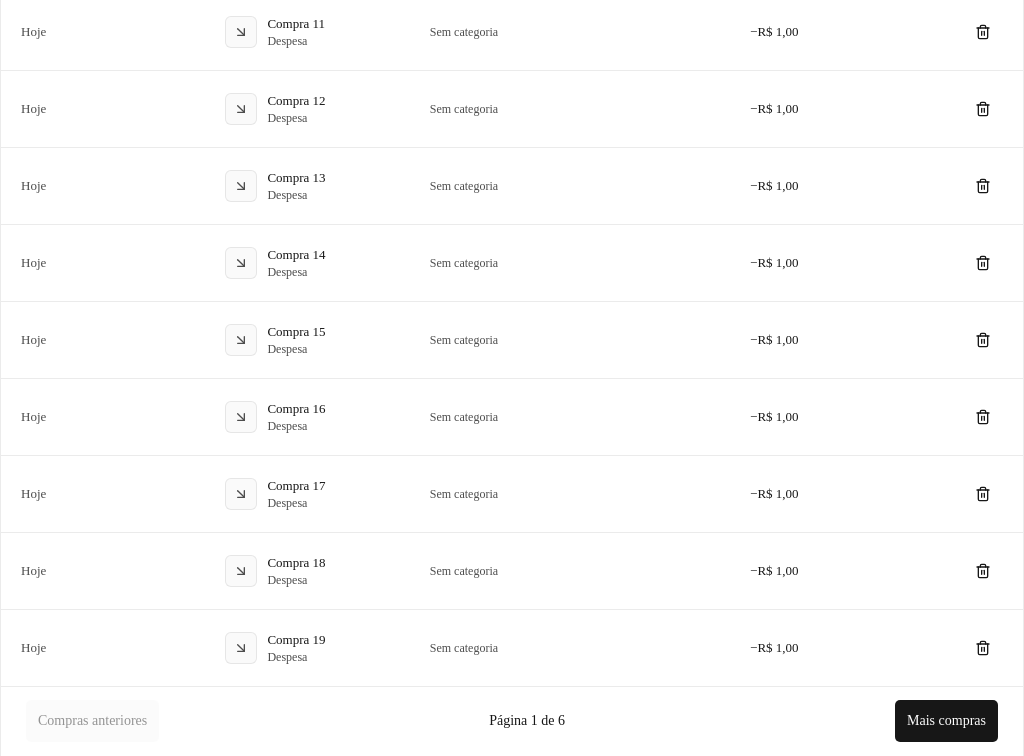
Test: total completo permanece correto ao navegar mais de 100 compras
The image size is (1024, 756).
(page scrolled)
Click the button "Mais compras" at (946, 721), box [894, 699, 999, 743]
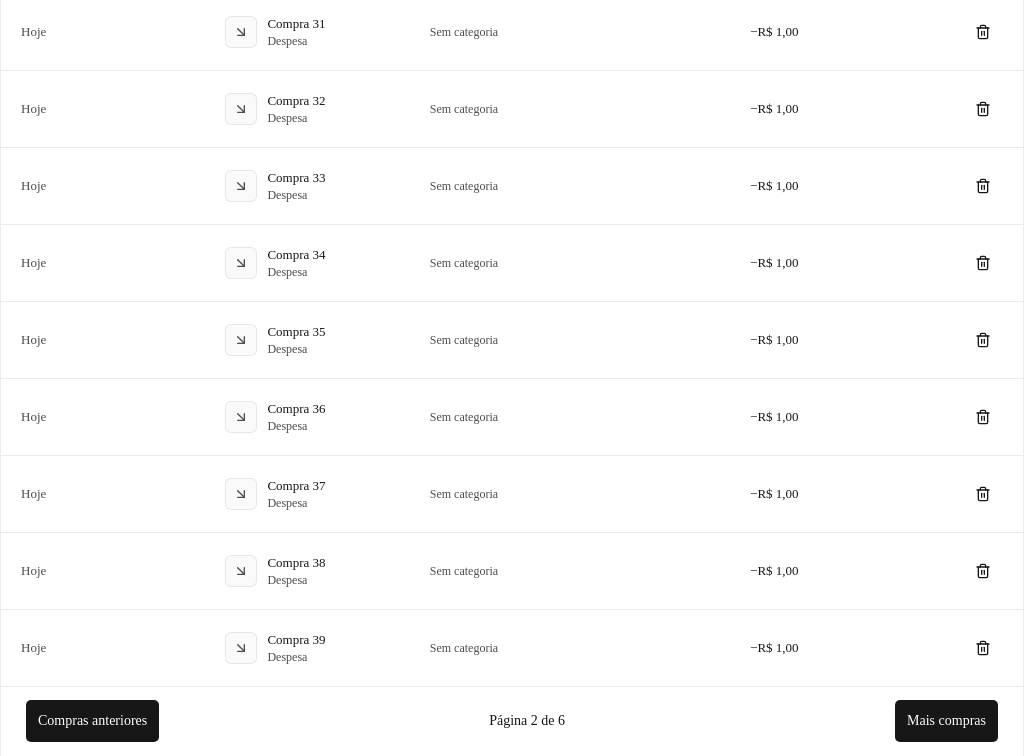
Click the button "Mais compras" at (946, 721), box [894, 699, 999, 743]
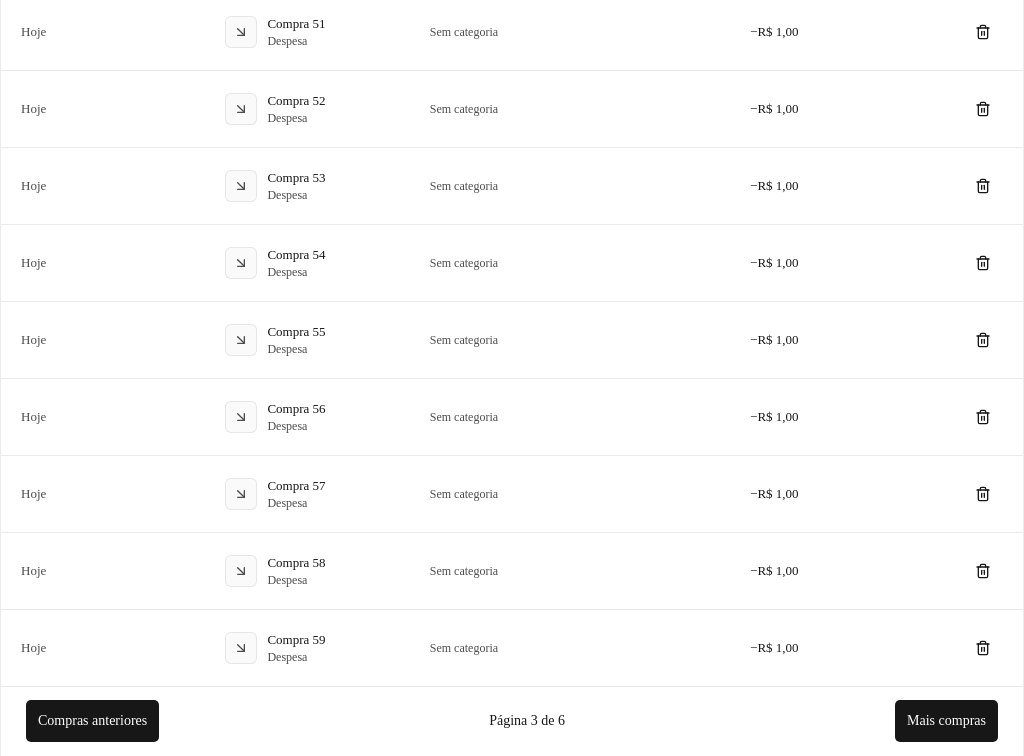
Click the button "Mais compras" at (946, 721), box [894, 699, 999, 743]
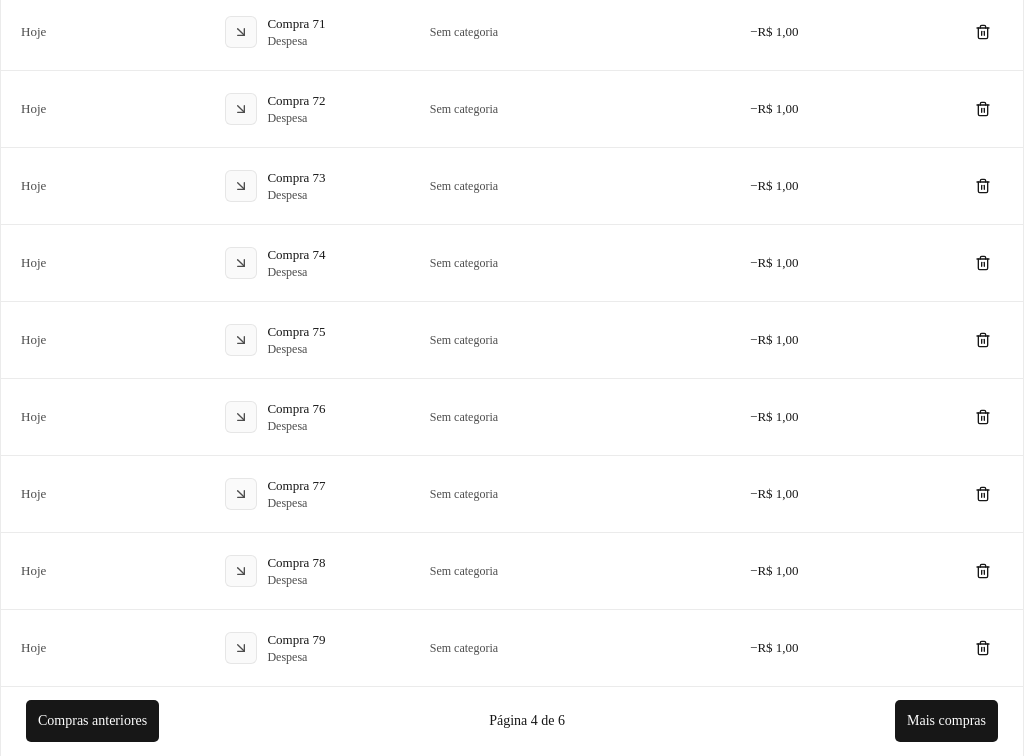
Click the button "Mais compras" at (946, 721), box [894, 699, 999, 743]
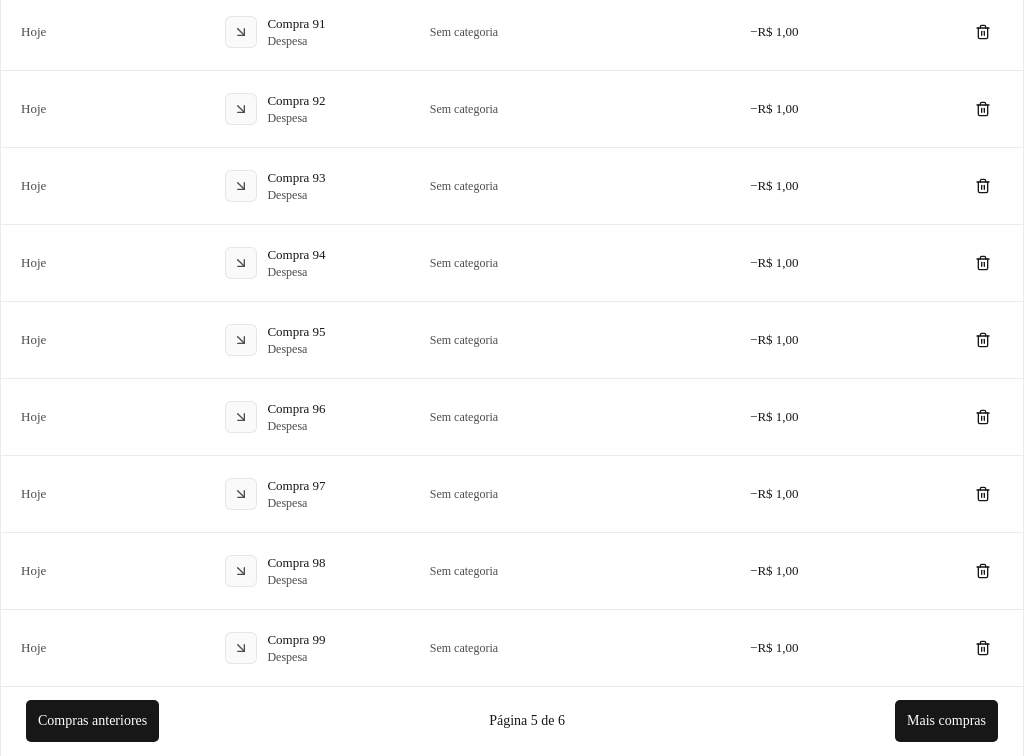
Click the button "Mais compras" at (946, 721), box [894, 699, 999, 743]
(page scrolled)
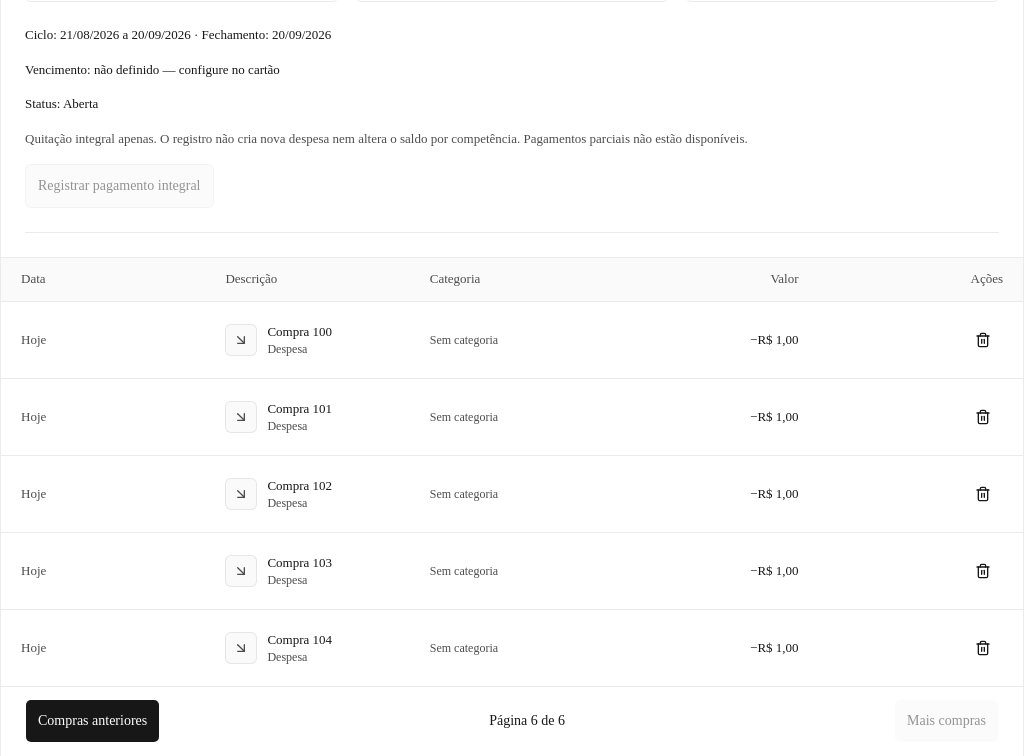
Check: the text "Compra 104" is shown, box [267, 632, 332, 646]
Click the button "Compras anteriores" at (93, 721), box [25, 699, 160, 743]
(page scrolled)
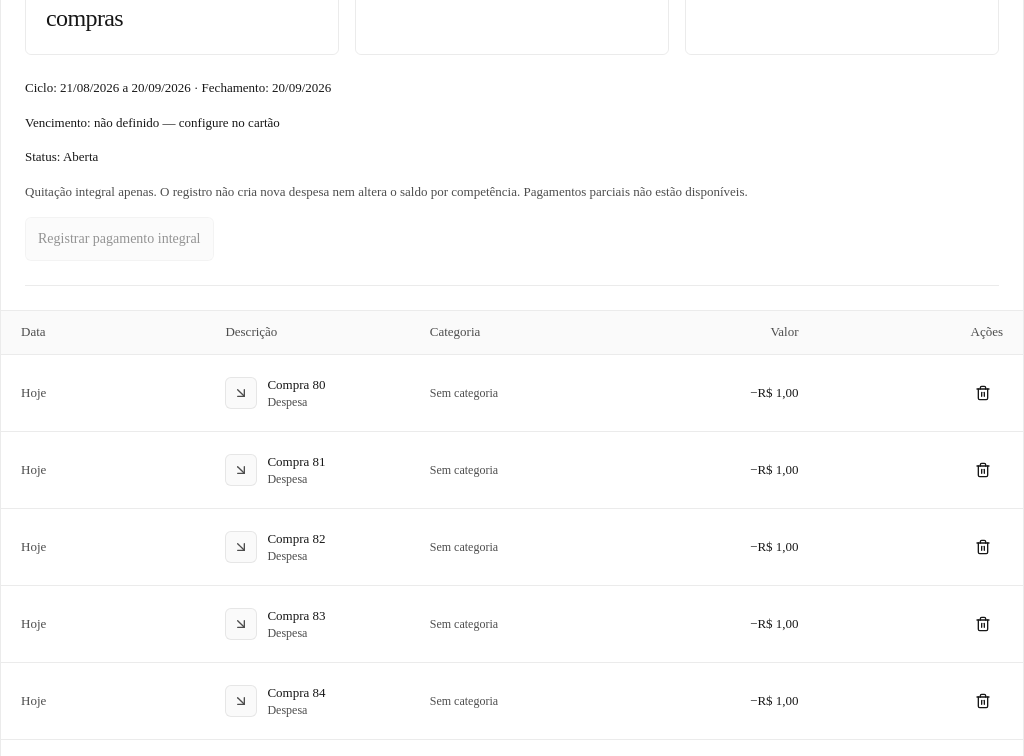
Check: the text "Compra 80" is shown, box [267, 376, 326, 392]
